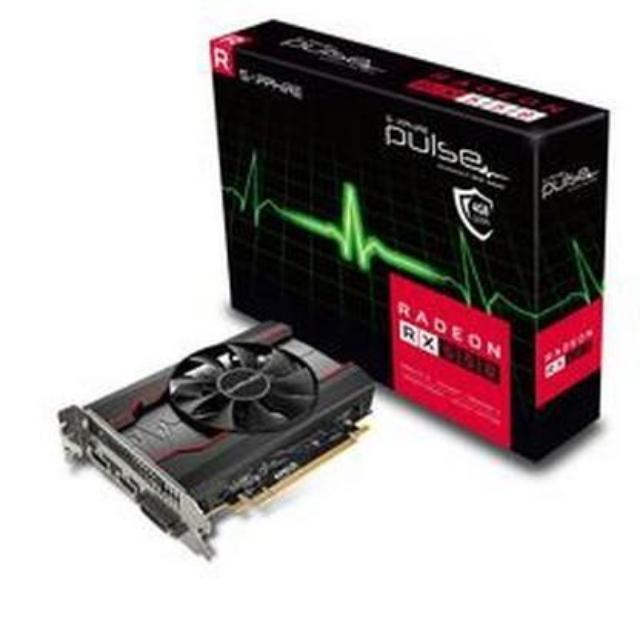GPU: (68, 304, 384, 568)
